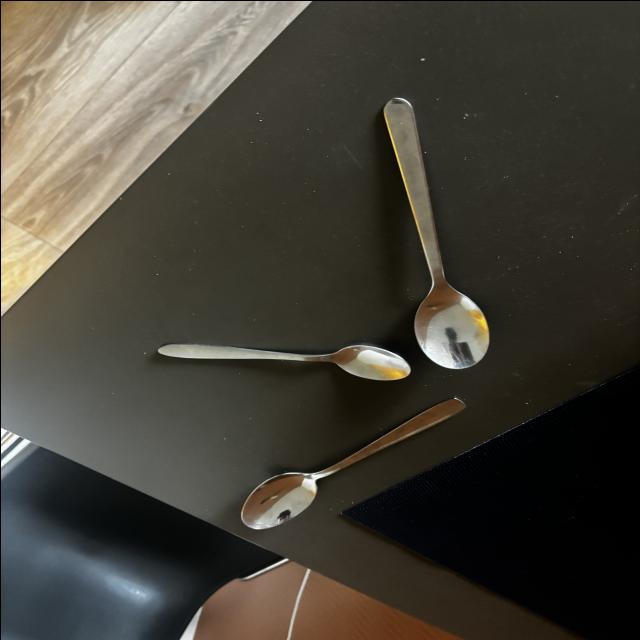spoon: (379, 91, 492, 368), (144, 338, 411, 380)
